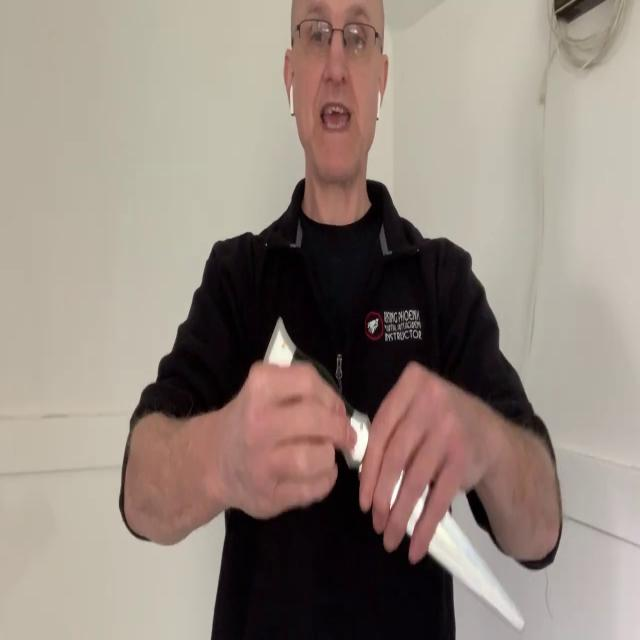Knife_Handle: (224, 317, 525, 633)
